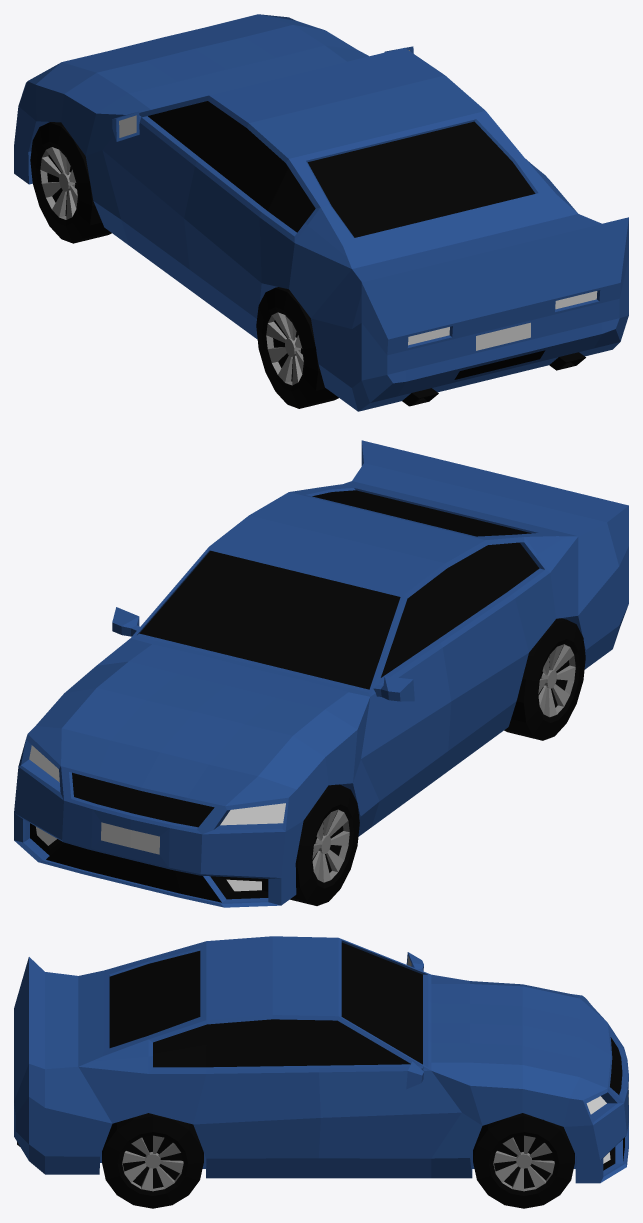
The model's file is Car.fbx.
The picture shows the model from 3 angles, top to bottom: view 1: azimuth 30°, elevation 25°; view 2: azimuth 150°, elevation 25°; view 3: azimuth 270°, elevation 25°; orthographic projection. The views are drawn at different scales.
Parts seen in each view (by area): view 1: Body, Front Left Wheel, Rear Left Wheel, Mirrors; view 2: Body, Rear Left Wheel, Front Left Wheel, Mirrors; view 3: Body, Rear Right Wheel, Front Right Wheel, Mirrors.
Boxes of the visible parts, x1,y1,x2,y2 form: Body: (14,14,628,411); Front Left Wheel: (30,122,111,243); Rear Left Wheel: (256,287,338,408); Mirrors: (112,46,413,141); Body: (14,440,628,907); Rear Left Wheel: (504,618,585,740); Front Left Wheel: (290,784,359,905); Mirrors: (112,607,414,701); Body: (14,936,628,1183); Rear Right Wheel: (102,1113,203,1208); Front Right Wheel: (473,1113,574,1208); Mirrors: (406,952,423,1089).
Size of the model in its own units: 507 by 355 by 1103.
